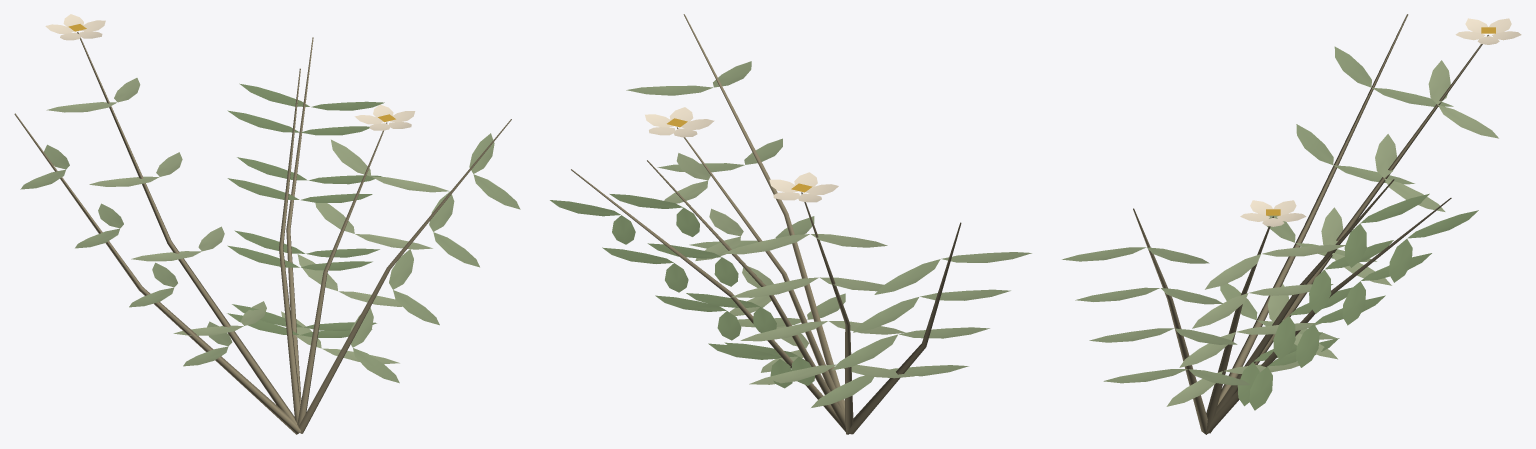
Rendered from CisteSauge_1_Low.fbx.
3 views of the same model, side by side, from view 1: azimuth 30°, elevation 25°; view 2: azimuth 150°, elevation 25°; view 3: azimuth 270°, elevation 25° (orthographic). The views are drawn at different scales.
Parts seen in each view (by area): view 1: CisteSauge_1_Low; view 2: CisteSauge_1_Low; view 3: CisteSauge_1_Low.
Part boxes in pixels (box(x1,y1,x2,y2)): CisteSauge_1_Low: box(14, 14, 520, 434); CisteSauge_1_Low: box(550, 14, 1031, 434); CisteSauge_1_Low: box(1062, 14, 1521, 434).
Size of the model in its own units: 82.45 by 63.5 by 74.54.
